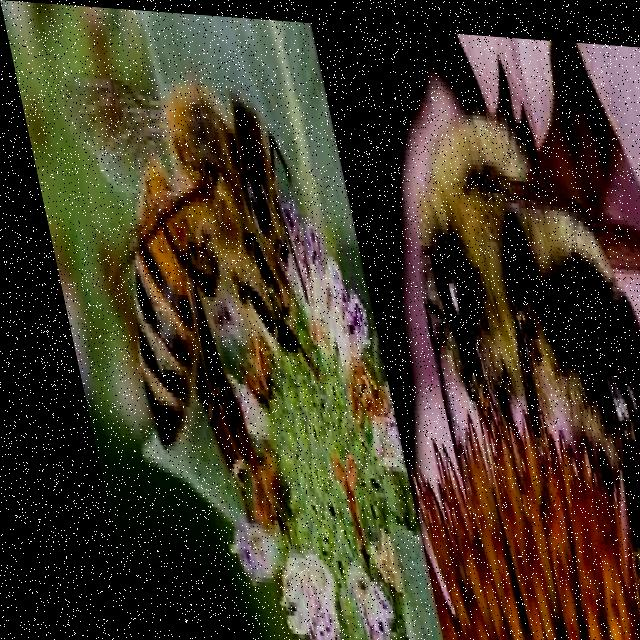Apis-mellifera-scutellata: (51, 44, 347, 488)
Xylocopa: (328, 40, 640, 598)
